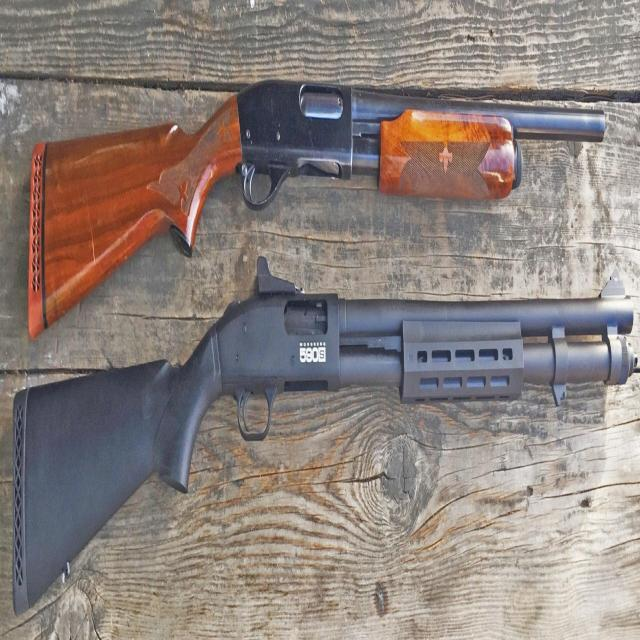weapon: (12, 282, 636, 624), (20, 87, 620, 339)
